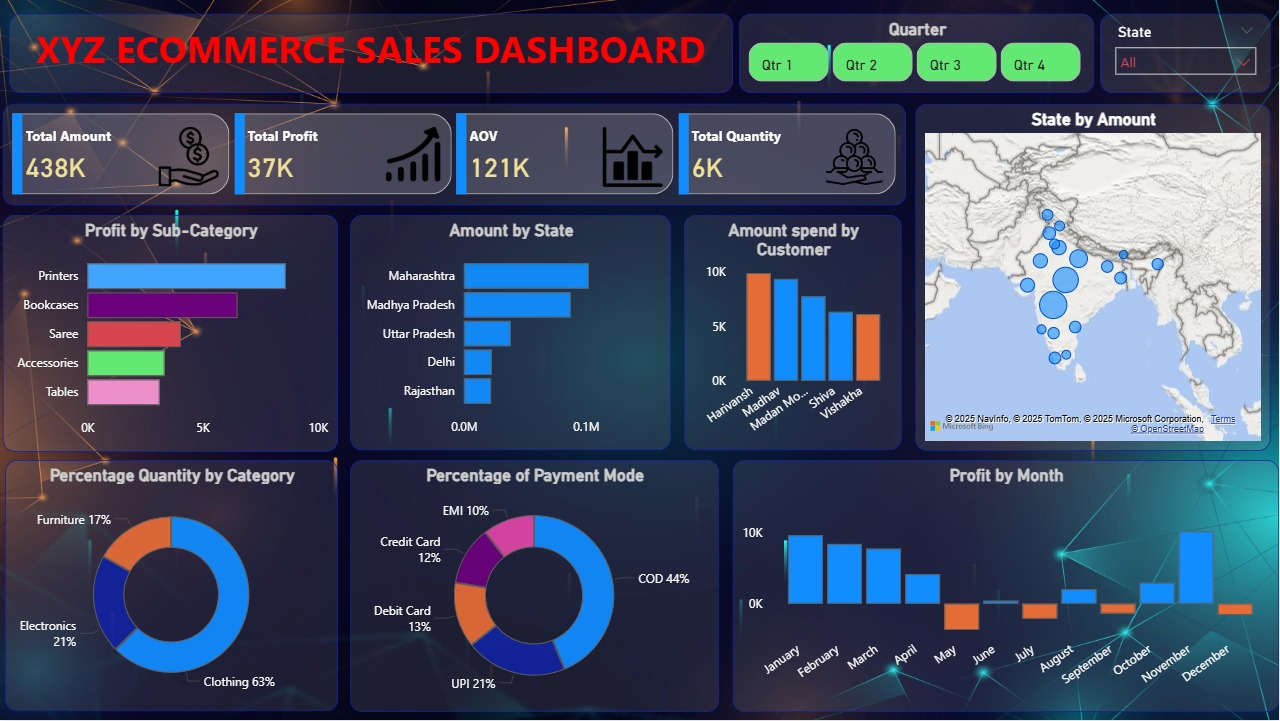

What the dashboard file says about the page in this screenshot:
{"tool":"powerbi","page":{"name":"Dash Board","canvas":[1280,720],"ordinal":0},"visuals":[{"type":"textbox","box":[10,14.3,724,78.9],"z":0},{"type":"columnChart","title":"Profit by Month","fields":{"Category":["Orders.Order Date.Variation.Date Hierarchy.Month"],"Y":["Details.Profit"]},"box":[734.1,460.2,546.2,252.3],"z":1000},{"type":"barChart","title":"Profit by Sub-Category","fields":{"Category":["Details.Sub-Category"],"Y":["Details.Profit"]},"box":[4.3,215.1,335.5,236.6],"z":2000},{"type":"donutChart","title":"Percentage Quantity by Category","fields":{"Category":["Details.Category"],"Y":["Details.Quantity"]},"box":[5.7,460.2,332.6,250.9],"z":3000},{"type":"donutChart","title":"Percentage of Payment Mode","fields":{"Y":["Details.Quantity"],"Category":["Details.PaymentMode"]},"box":[351.3,460.2,368.5,252.3],"z":4000},{"type":"cardVisual","fields":{"Data":["Details.Amount","Details.Profit","Details.Average Order Value","Details.Quantity"]},"box":[4.3,103.2,903.2,101.8],"z":4001},{"type":"barChart","title":"Amount by State","fields":{"Category":["Orders.State"],"Y":["Details.Amount"]},"box":[351.3,215.1,321.1,235.1],"z":4002},{"type":"columnChart","title":"Amount spend by Customer","fields":{"Category":["Orders.CustomerName"],"Y":["Details.Amount"]},"box":[685.3,215.1,217.9,235.1],"z":4003},{"type":"advancedSlicerVisual","fields":{"Values":["Orders.Order Date.Variation.Date Hierarchy.Quarter"]},"box":[739.8,14.3,355.6,78.9],"z":4004},{"type":"slicer","fields":{"Values":["Orders.State"]},"box":[1101.1,14.3,170.6,78.9],"z":4005},{"type":"map","title":"State by Amount","fields":{"Category":["Orders.State"],"Size":["Details.Amount"]},"box":[916.1,103.2,355.6,347],"z":4006}]}

Visuals, with their boxes in screenshot pixels (x1, y1, x2, y2), scaled from the page's 1280x720 canvas onto the 1280x721 screenshot:
textbox: 10 14 734 93
"Profit by Month" columnChart: 734 461 1279 713
"Profit by Sub-Category" barChart: 4 215 340 452
"Percentage Quantity by Category" donutChart: 6 461 338 712
"Percentage of Payment Mode" donutChart: 351 461 720 713
cardVisual - Details.Amount x Details.Profit: 4 103 908 205
"Amount by State" barChart: 351 215 672 451
"Amount spend by Customer" columnChart: 685 215 903 451
advancedSlicerVisual - Orders.Order Date.Variation.Date Hierarchy.Quarter: 740 14 1095 93
slicer - Orders.State: 1101 14 1272 93
"State by Amount" map: 916 103 1272 451
